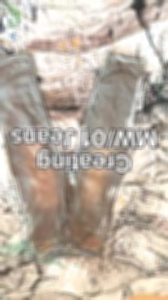earth: (77, 173, 108, 231), (36, 170, 58, 235)
